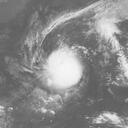cyclone: (39, 46, 86, 90)
